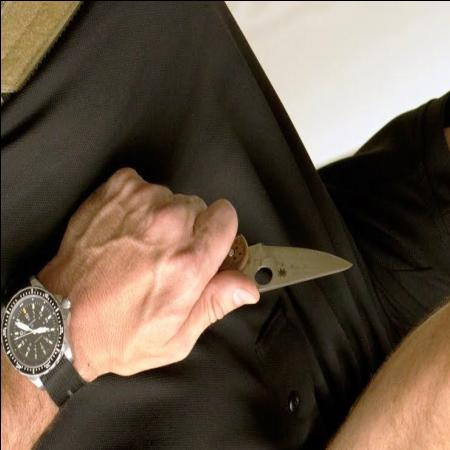long weapon: (163, 186, 360, 310)
